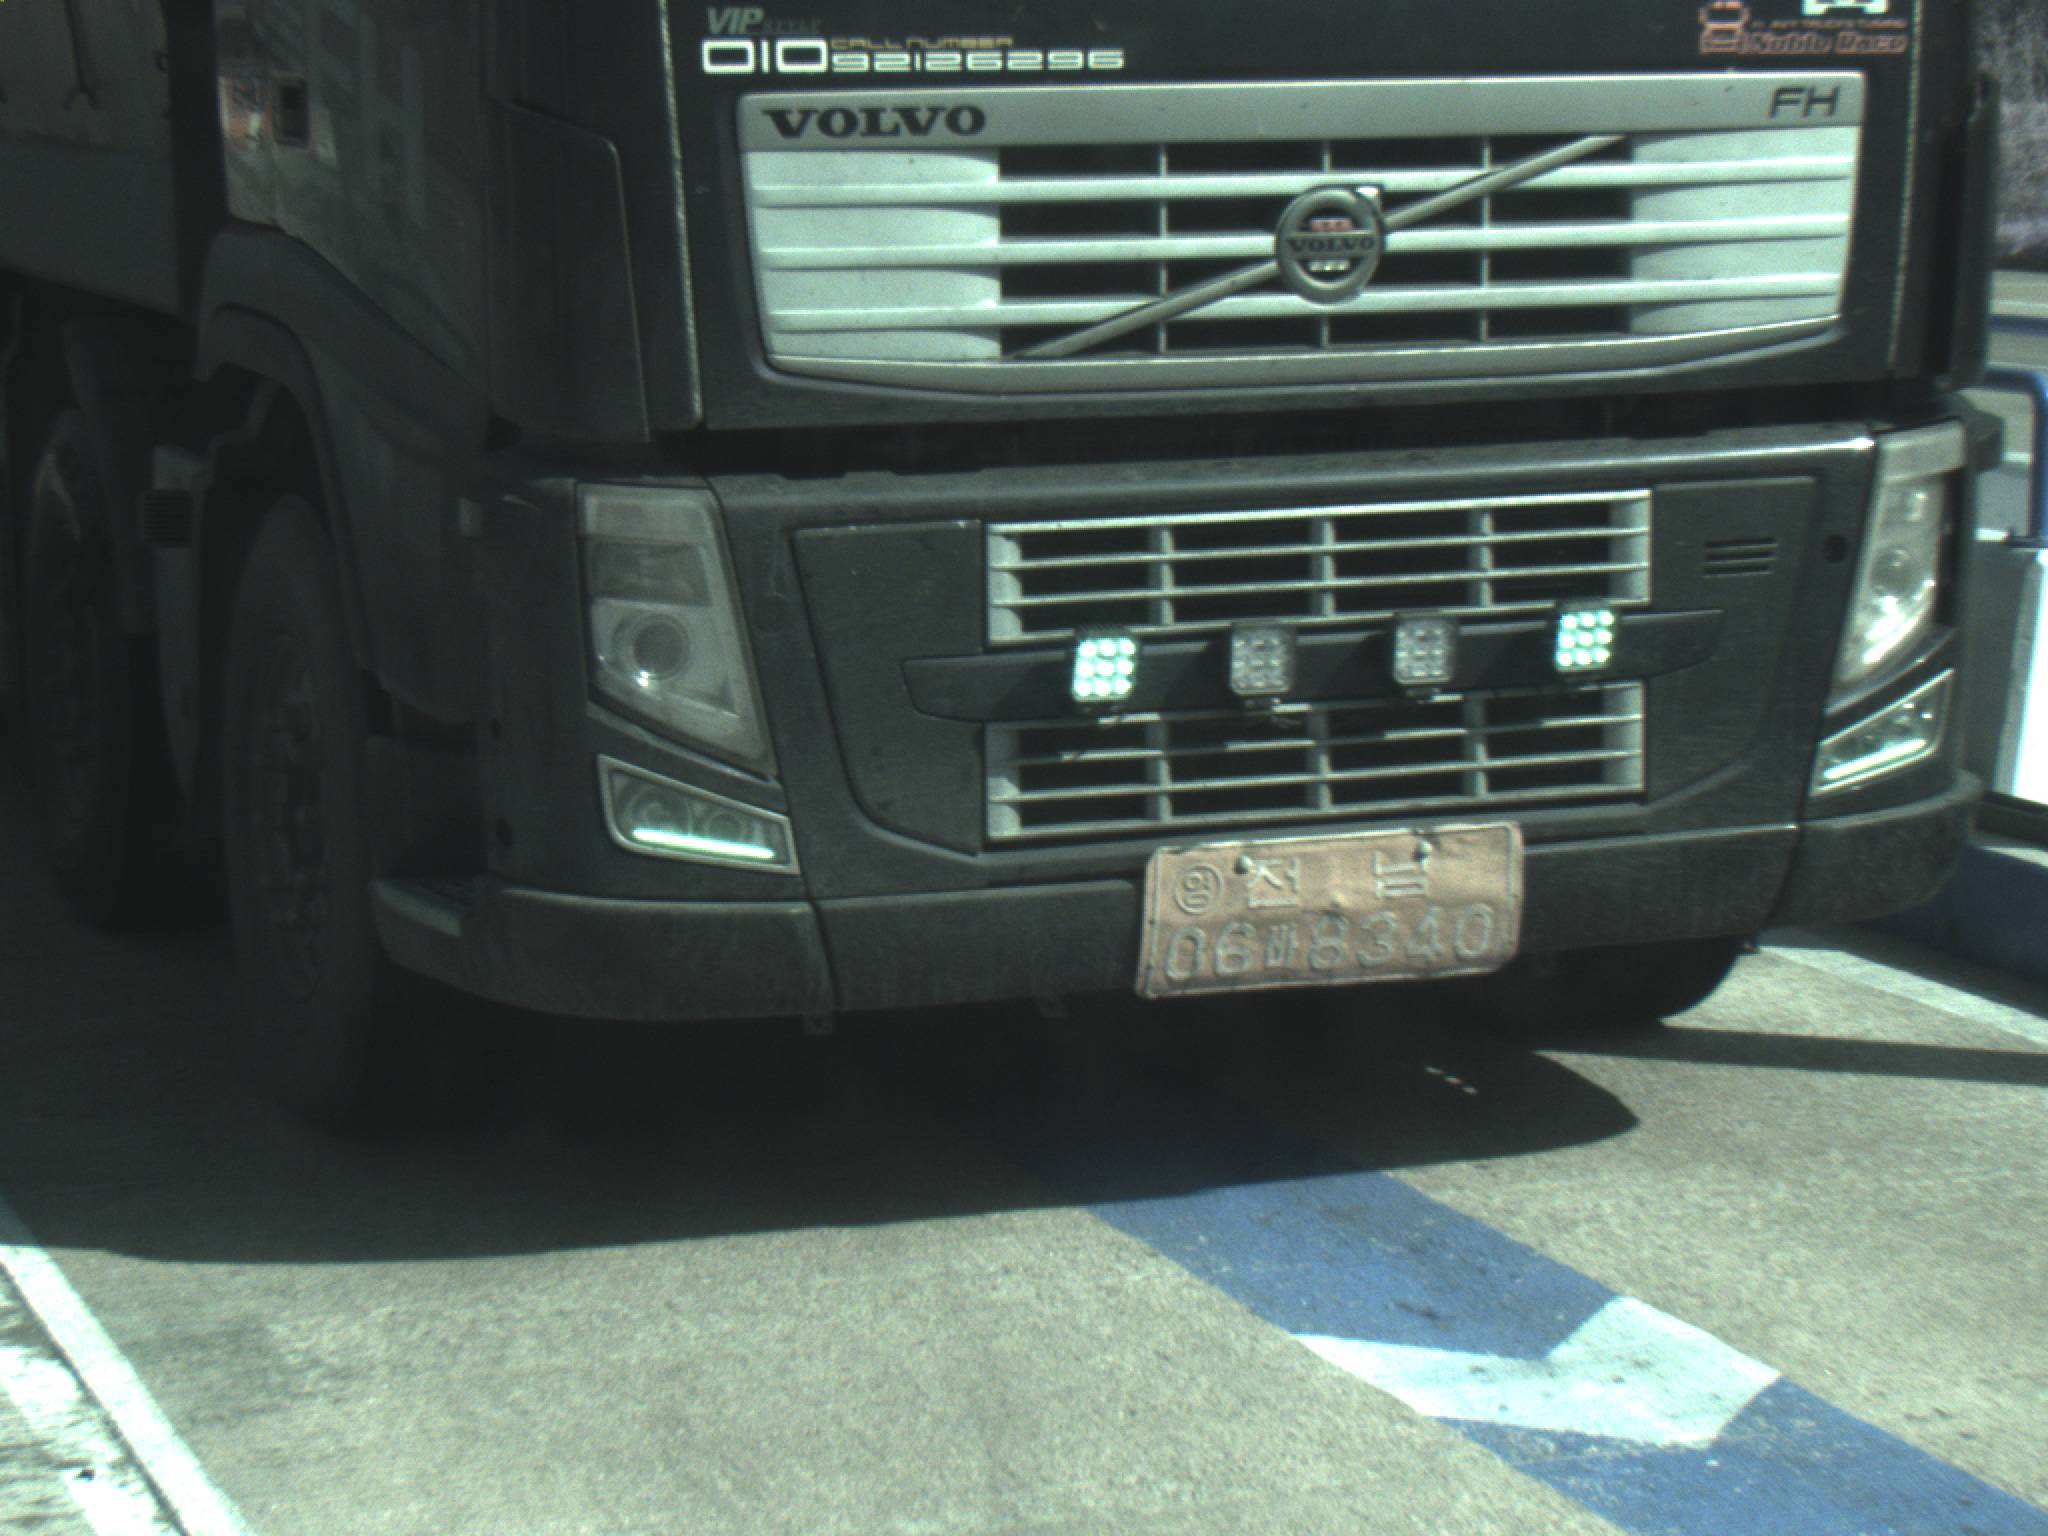car: (1, 1, 2008, 1143)
plate: (1133, 823, 1521, 998)
